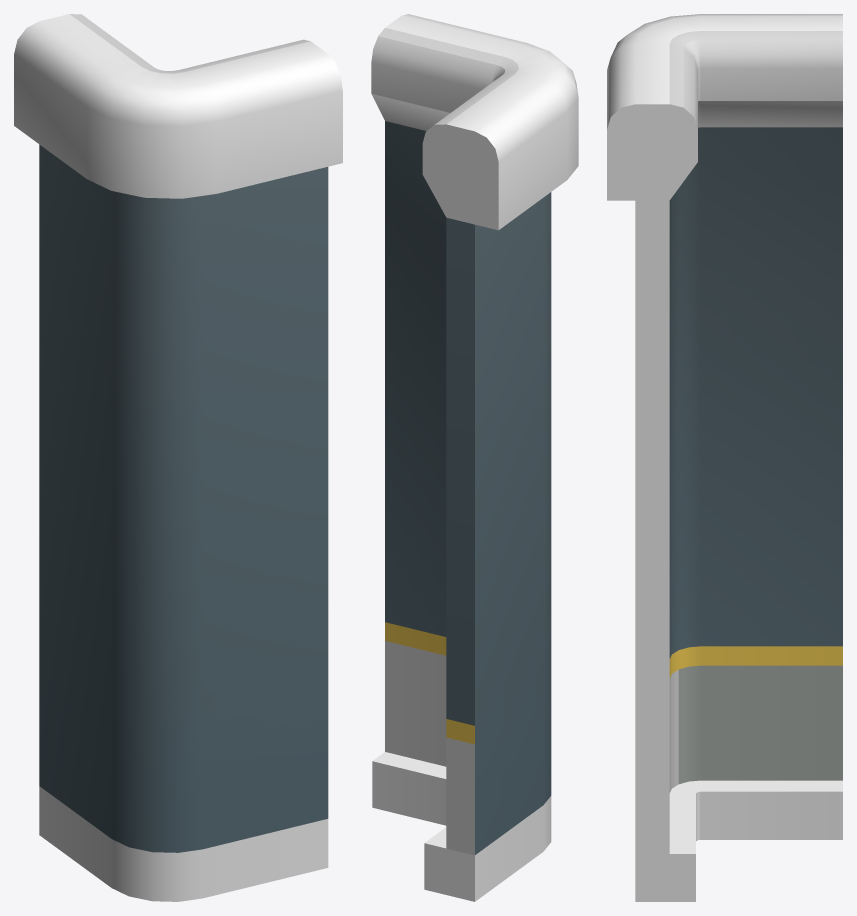
Rendered from Wall_Corner.fbx.
3 renders of one model, left to right at view 1: azimuth 30°, elevation 25°; view 2: azimuth 150°, elevation 25°; view 3: azimuth 270°, elevation 25°, orthographic. The views are drawn at different scales.
Visible parts, largest first — view 1: Wall_Corner; view 2: Wall_Corner; view 3: Wall_Corner.
Boxes of the visible parts, bbox=[...] form: Wall_Corner: bbox=[14, 14, 342, 901]; Wall_Corner: bbox=[371, 14, 578, 901]; Wall_Corner: bbox=[607, 14, 842, 901].
Size of the model in its own units: 83.02 by 310 by 83.02.
